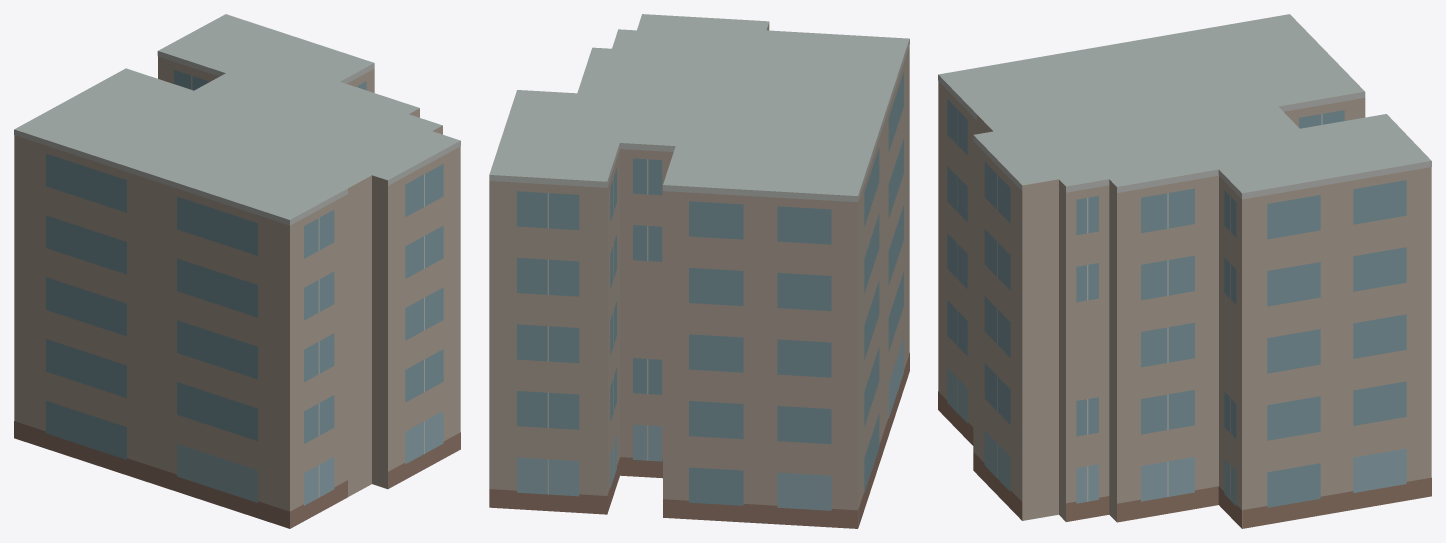
The model's file is survey-upis-32733364.glb.
3 renders of one model, left to right at view 1: azimuth 30°, elevation 25°; view 2: azimuth 150°, elevation 25°; view 3: azimuth 270°, elevation 25°, orthographic. The views are drawn at different scales.
Visible parts, largest first — view 1: survey-upis-32733364.tmp; view 2: survey-upis-32733364.tmp; view 3: survey-upis-32733364.tmp.
Boxes of the visible parts, x1,y1,x2,y2 form: survey-upis-32733364.tmp: [14, 14, 460, 528]; survey-upis-32733364.tmp: [489, 14, 909, 528]; survey-upis-32733364.tmp: [938, 14, 1431, 528].
Size of the model in its own units: 15.38 by 13.4 by 17.88.
